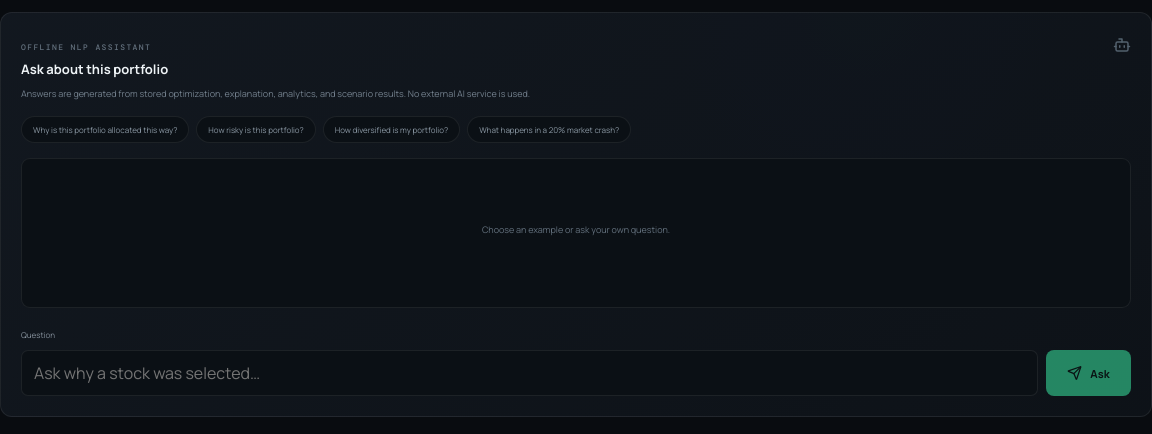
AssistantPanel › shows a pending state while portfolio sources are checked
What coordinates should you click on to do the following:
click the button "How risky is this portfolio?"
I would click on:
 (256, 130)
Its box is [196,116,316,143].
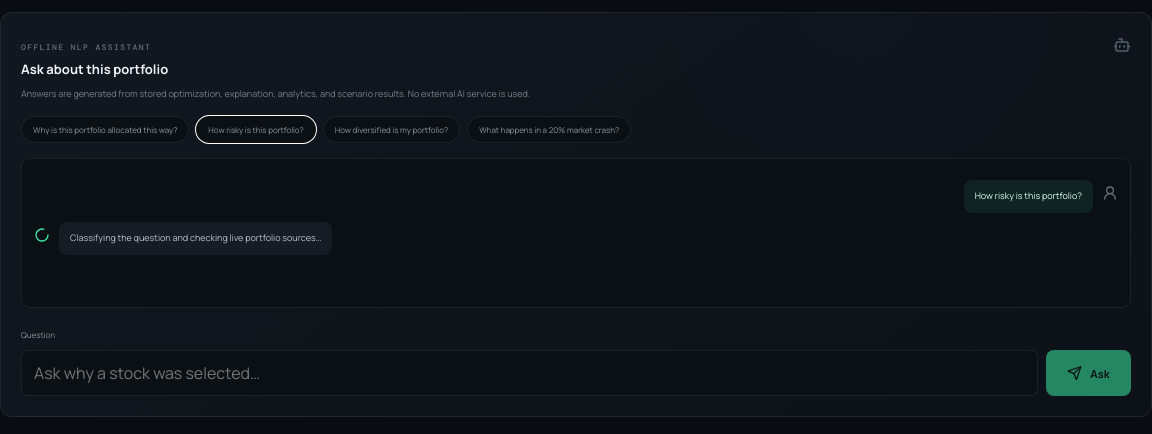
Now the message shows "checking live portfolio sources", box [70,231,321,244]
